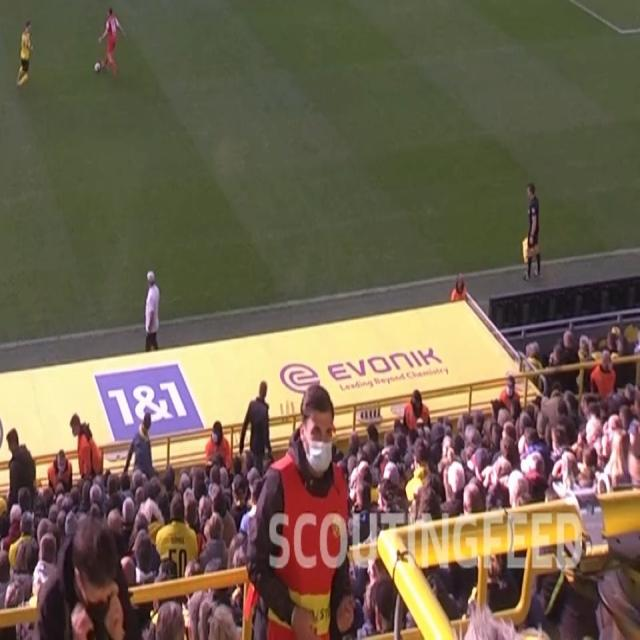ball: (94, 60, 101, 74)
